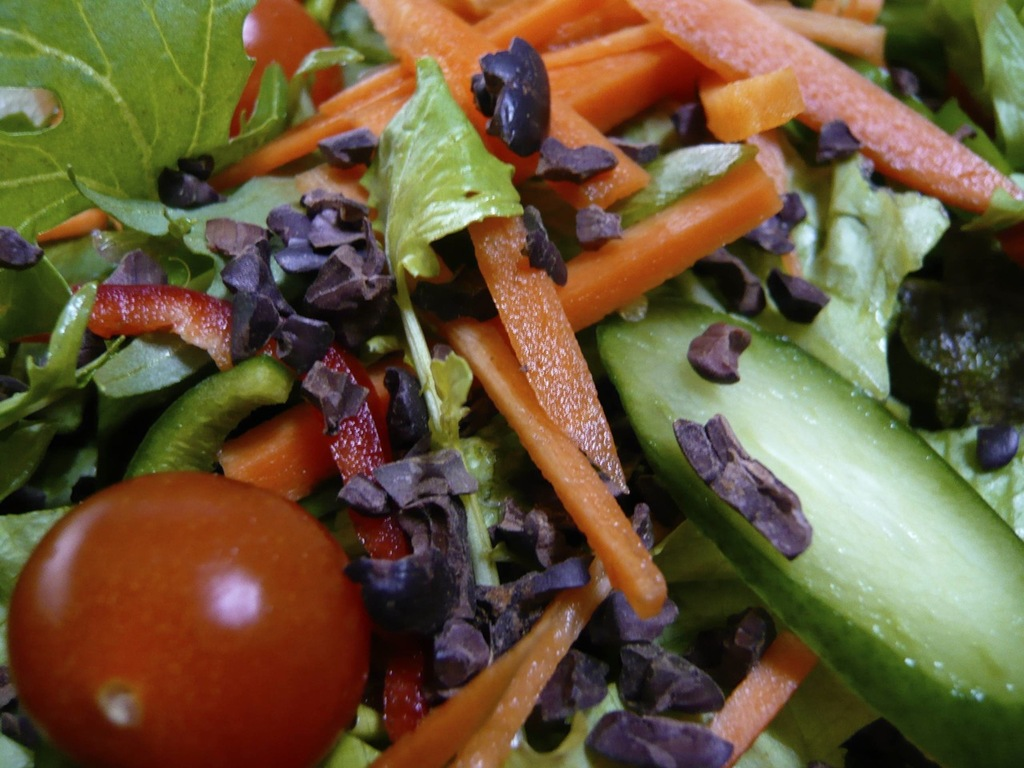Carrot: (42, 0, 1022, 767), (354, 0, 651, 216)
